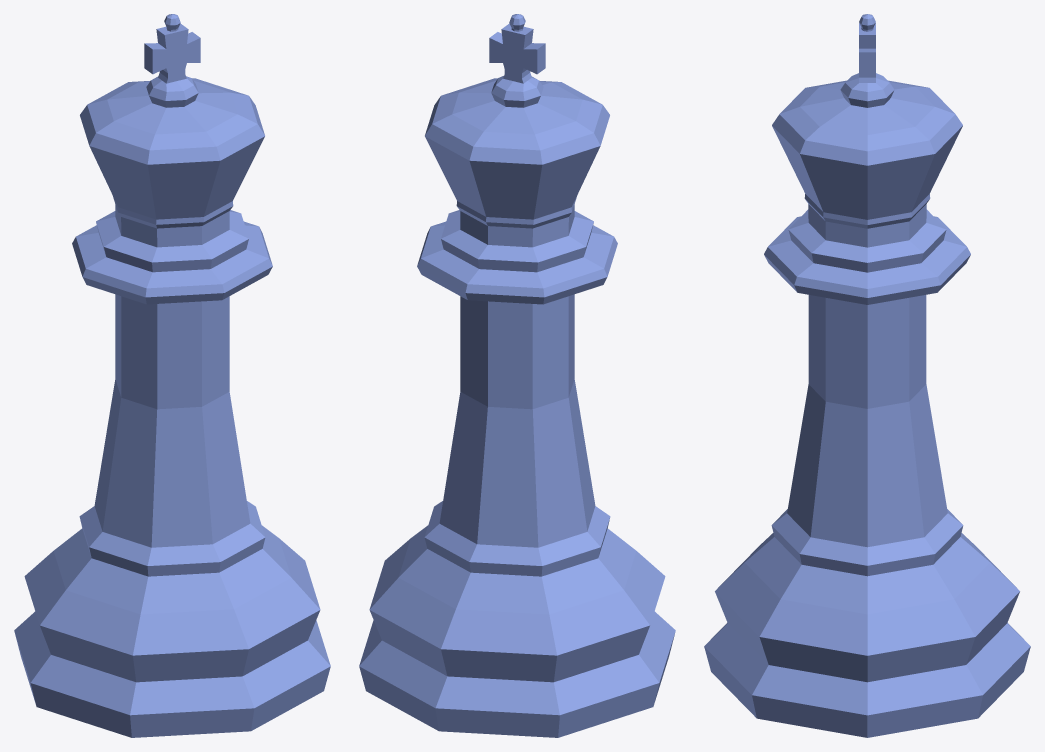
The picture shows the model from 3 angles, left to right: view 1: azimuth 30°, elevation 25°; view 2: azimuth 150°, elevation 25°; view 3: azimuth 270°, elevation 25°; orthographic projection.
Parts seen in each view (by area): view 1: KingR-Visual; view 2: KingR-Visual; view 3: KingR-Visual.
Boxes of the visible parts, x1,y1,x2,y2 form: KingR-Visual: (14,14,330,737); KingR-Visual: (359,14,675,737); KingR-Visual: (704,14,1030,737).
Size of what is drawn, in the model's own units: 1.67 by 3.7 by 1.67.
